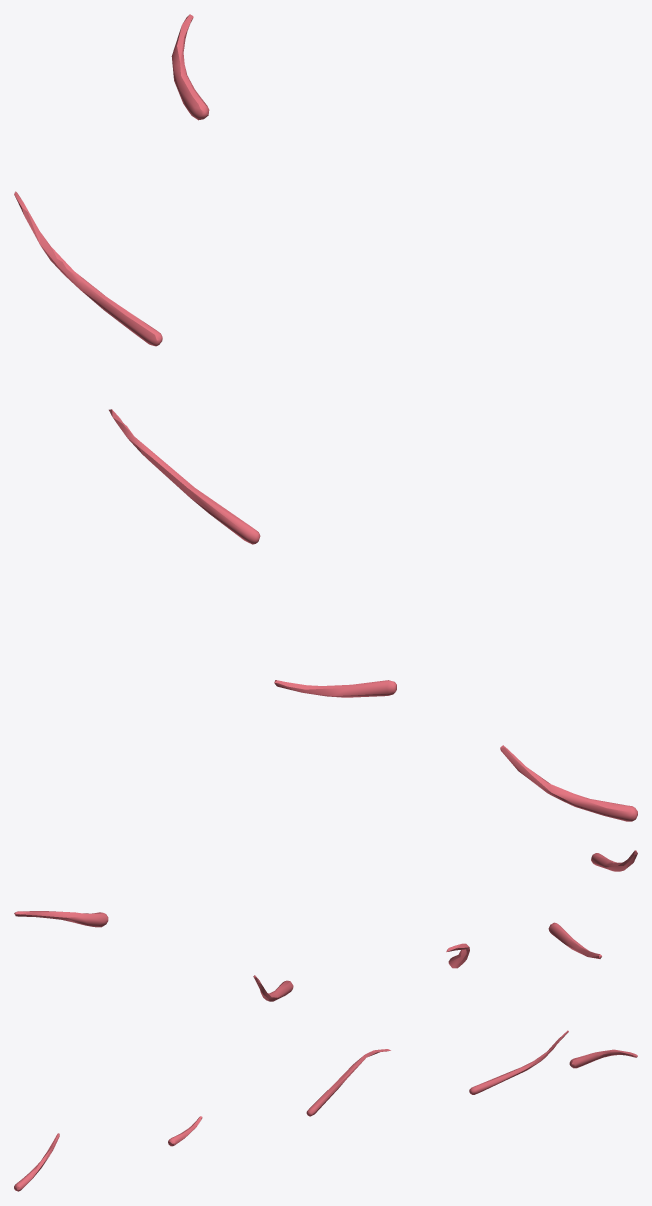
Rendered from fma50131_fj5067.glb.
3 views of the same model, one above another, from view 1: azimuth 30°, elevation 25°; view 2: azimuth 150°, elevation 25°; view 3: azimuth 270°, elevation 25° (orthographic). The views are drawn at different scales.
Parts seen in each view (by area): view 1: FMA50131_FJ5067; view 2: FMA50131_FJ5067; view 3: FMA50131_FJ5067.
Part boxes in pixels (x1,y1,x2,y2): FMA50131_FJ5067: (14, 14, 637, 821); FMA50131_FJ5067: (14, 850, 637, 1001); FMA50131_FJ5067: (14, 1030, 637, 1191).
Bounding box in the file's own units: 0.0115 × 0.011 × 0.0353.
